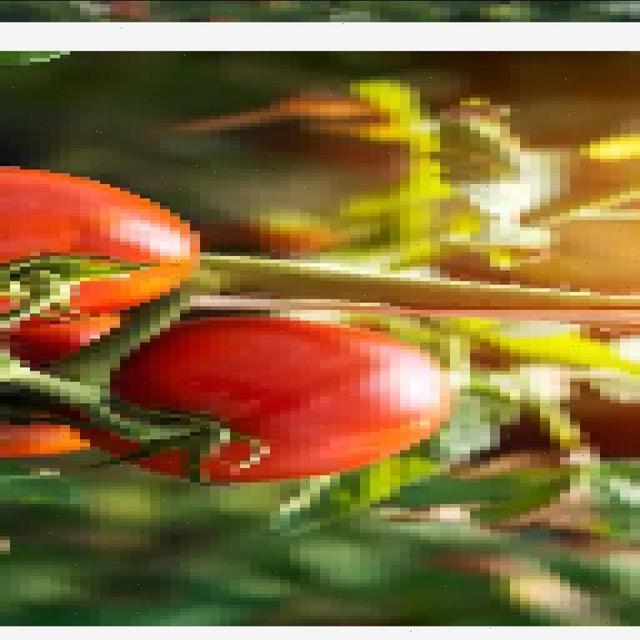Healthy Fruit: (77, 113, 240, 266)
